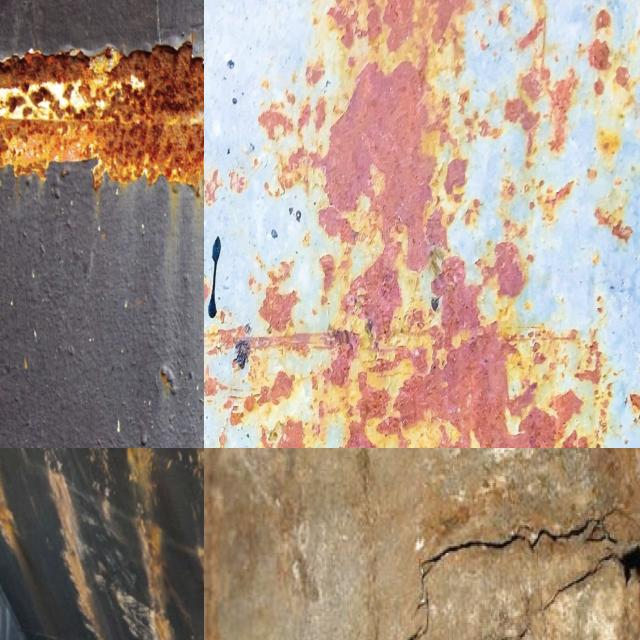Crack: (386, 492, 640, 640)
Pitting Corrosion: (0, 41, 204, 181)
Uniform Corrosion: (204, 42, 610, 448), (476, 0, 634, 319), (328, 0, 468, 91), (126, 448, 176, 640), (48, 469, 104, 640), (258, 59, 331, 151), (204, 365, 245, 448), (478, 241, 525, 297), (0, 475, 21, 560), (594, 207, 632, 241), (204, 169, 226, 206), (186, 448, 204, 488), (226, 171, 248, 193)
